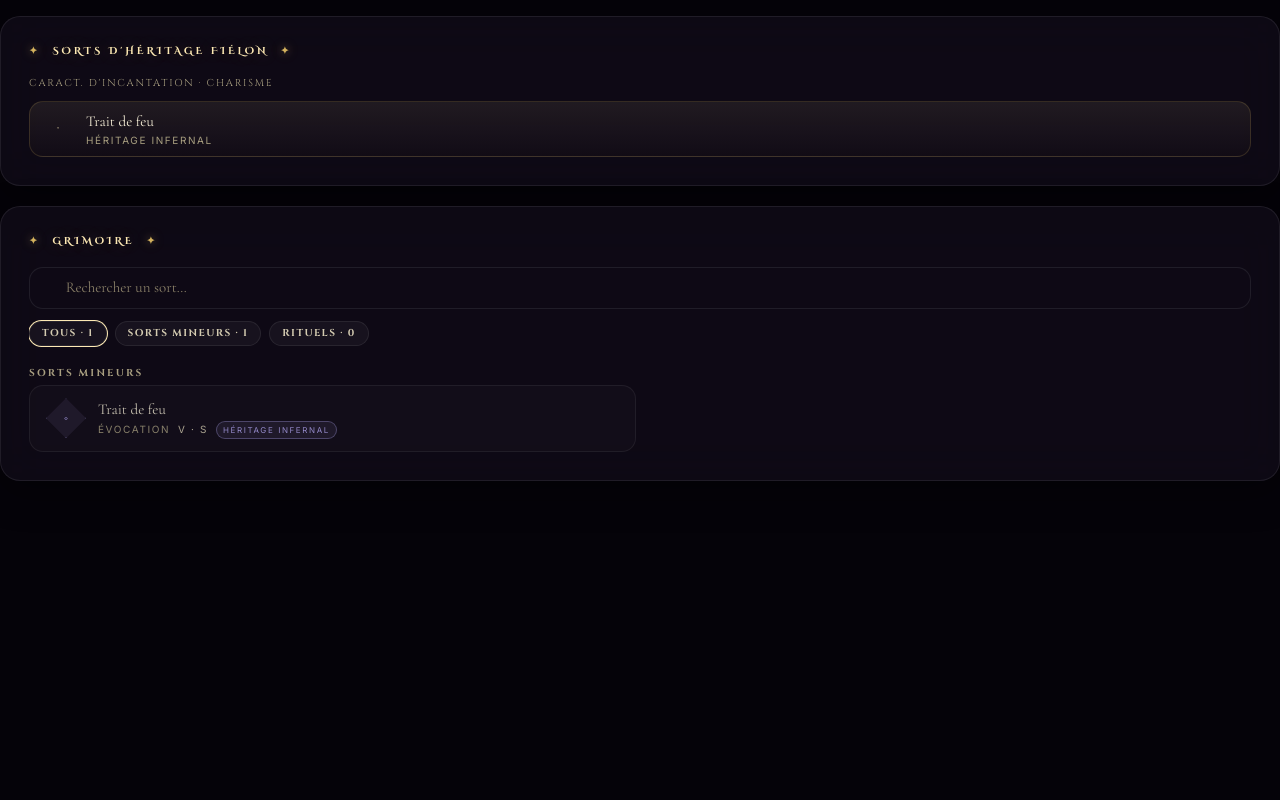
<MagieMode> — sort d'ascendance ouvre la modale détail (non-caster) › Tieffelin Infernal Roublard L1 → clic sur Trait de feu ouvre la modale + cantrip lançable
Step 1. Click the button "· Trait de feu Héritage Infernal" → point(120, 121), box left=29, top=101, right=1251, bottom=157
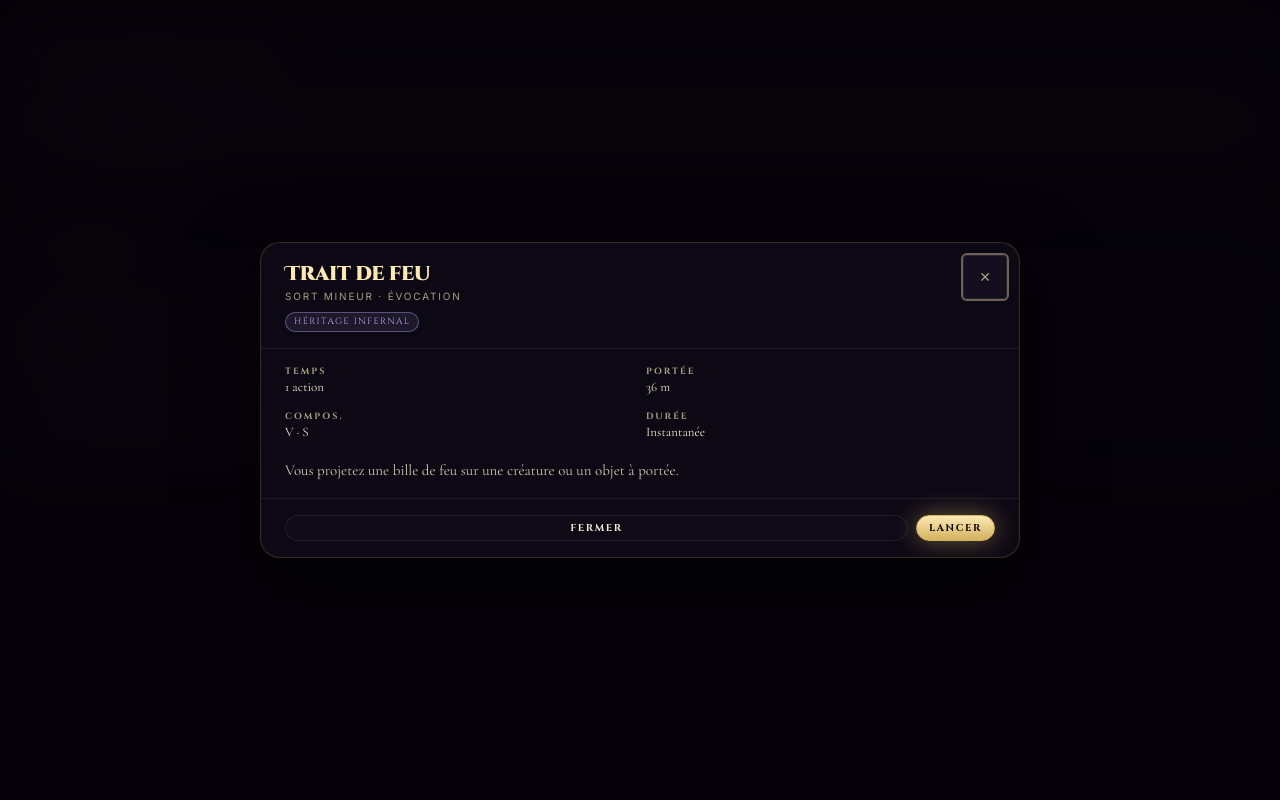
Result: the heading "Trait de feu" is shown at left=285, top=260, right=430, bottom=287
Result: the text "bille de feu" is shown at left=285, top=461, right=679, bottom=479
Result: the button "Lancer" is enabled at left=916, top=515, right=995, bottom=541
